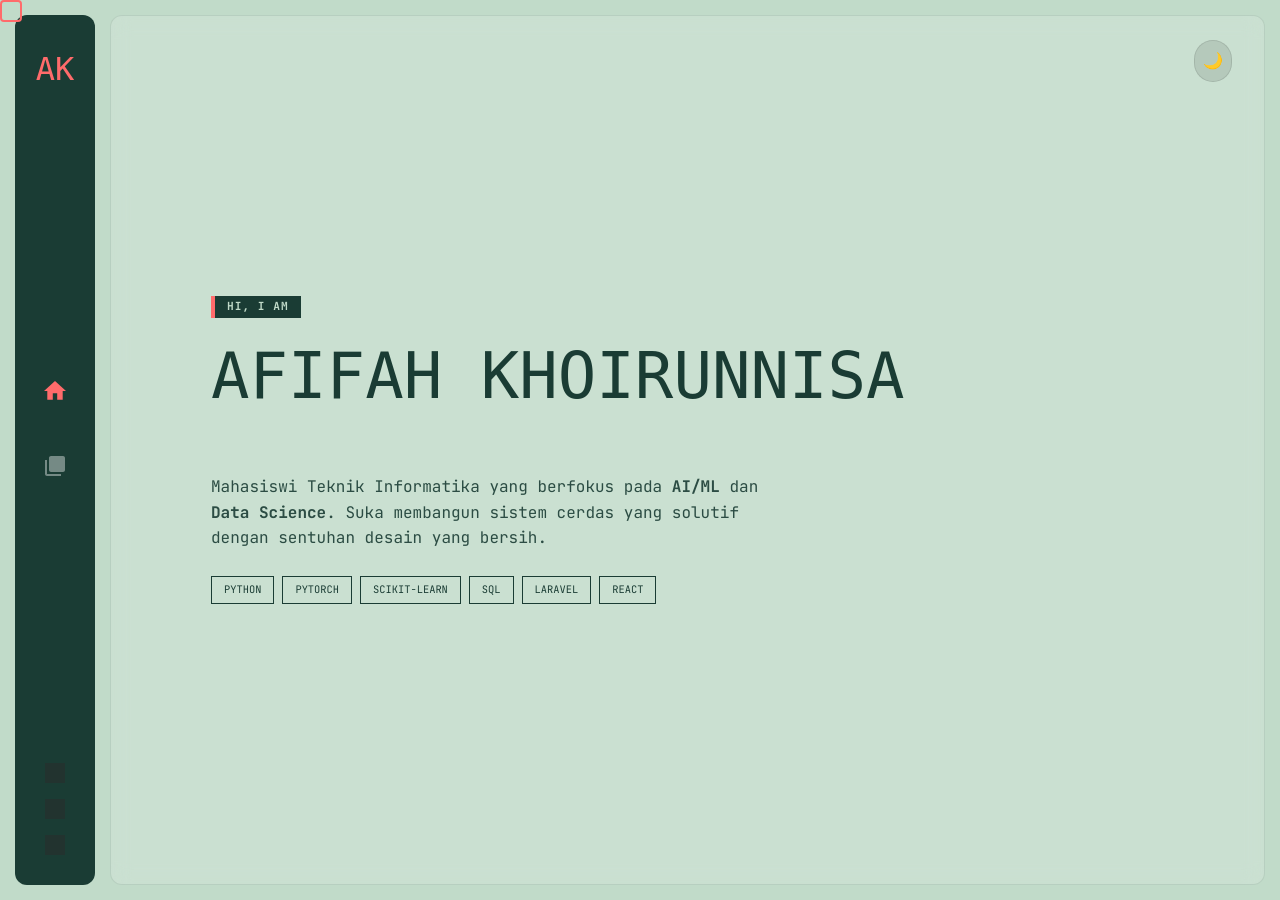
Portfolio Component › fitur filter project harus berfungsi
Pindah ke tab project dulu
Click the 3rd button: [55, 466] box [32, 443, 78, 488]
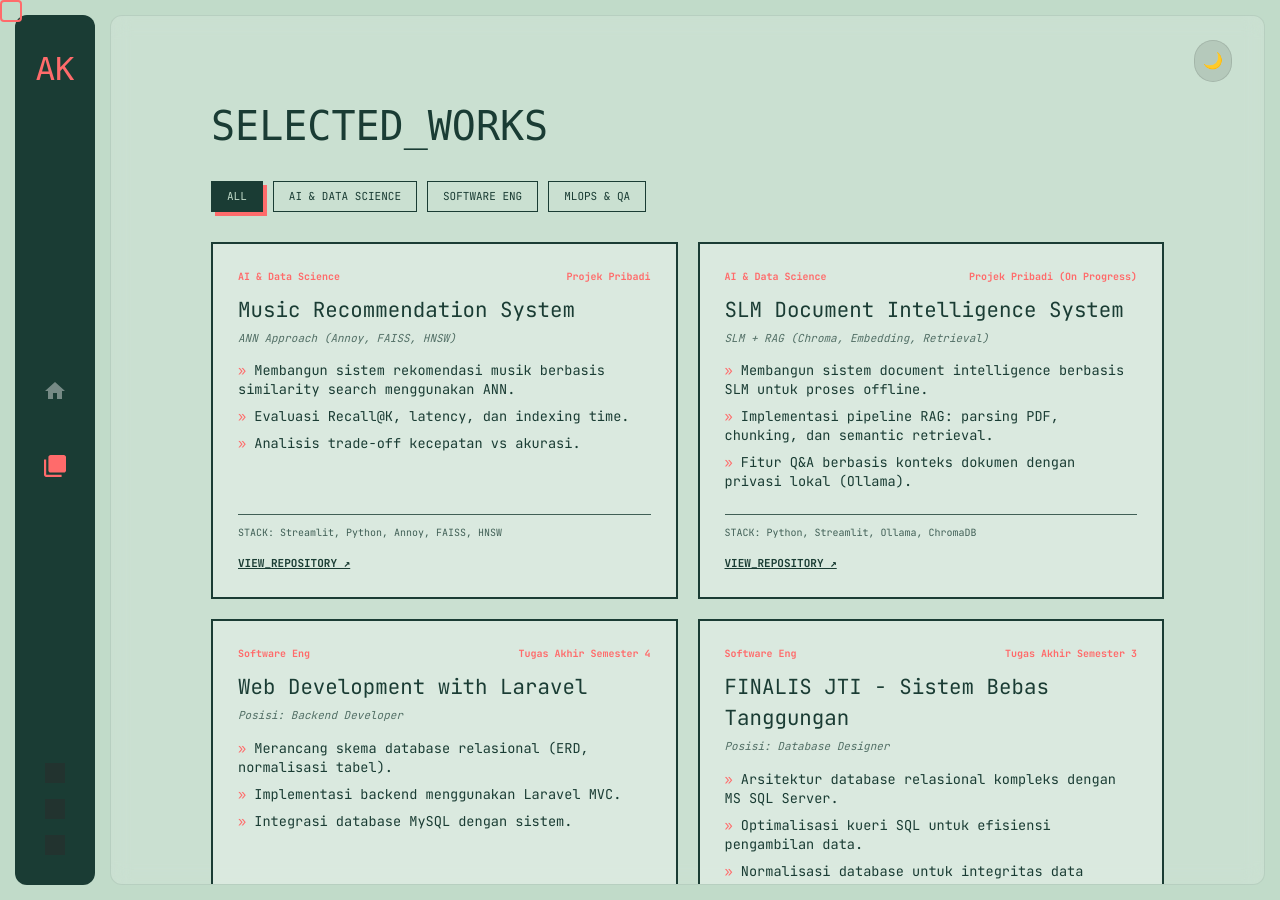
Click the button "SOFTWARE ENG": [483, 196] box [427, 181, 538, 212]
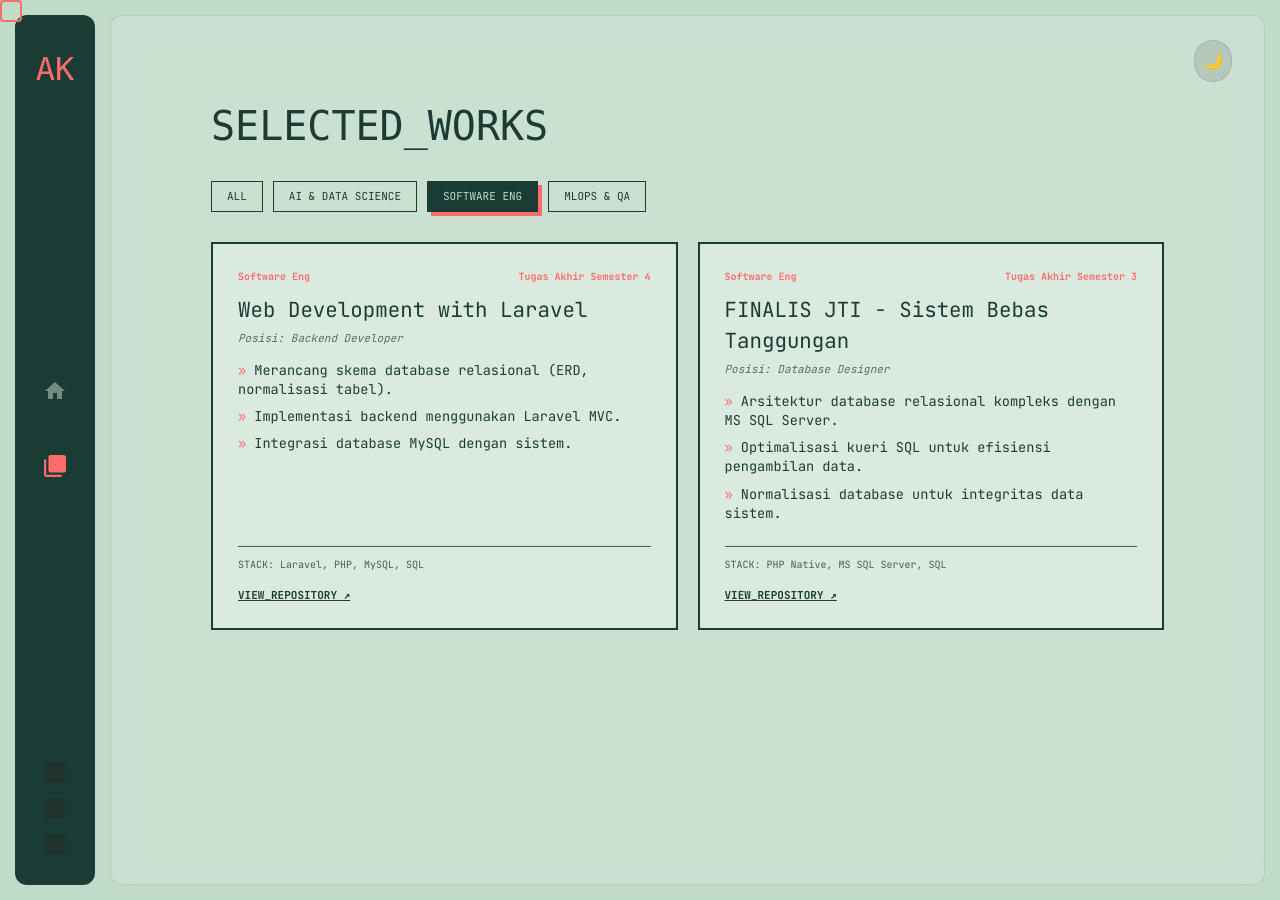
Expected: the heading "Web Development with Laravel" is shown, [238, 296, 587, 322]
Expected: the heading "Music Recommendation System" is gone
